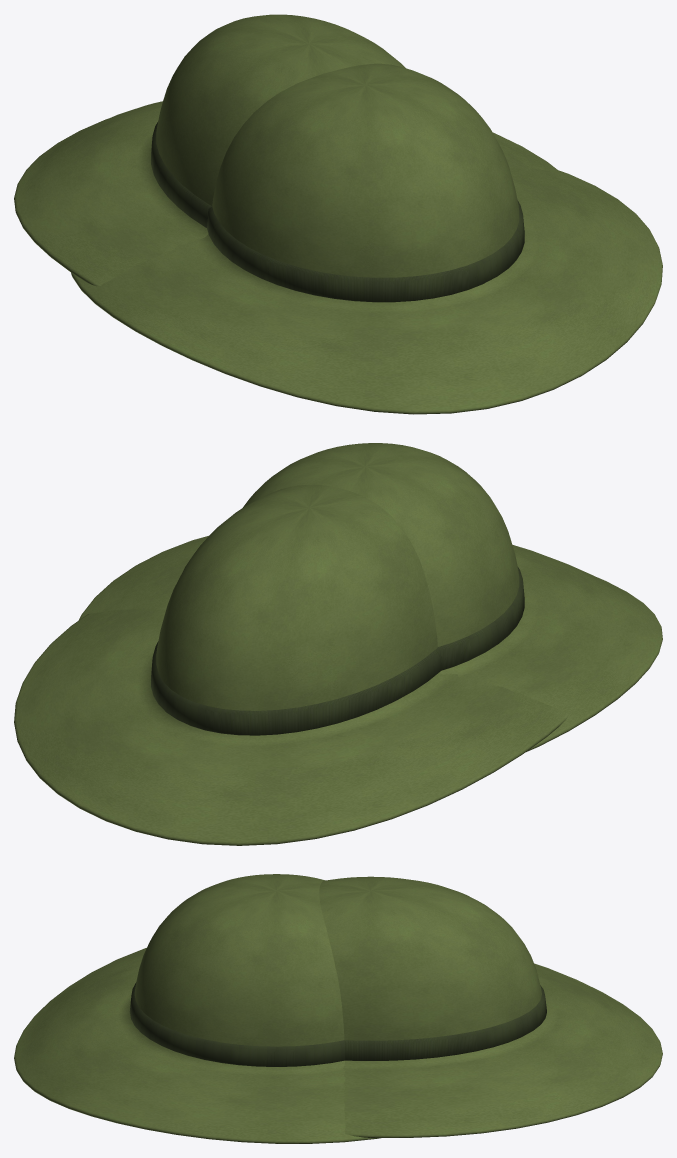
The model's file is prop-hat.glb.
3 renders of one model, top to bottom at view 1: azimuth 30°, elevation 25°; view 2: azimuth 150°, elevation 25°; view 3: azimuth 270°, elevation 25°, orthographic. The views are drawn at different scales.
Visible parts, largest first — view 1: hat-explorer-m, hat-explorer-f; view 2: hat-explorer-f, hat-explorer-m; view 3: hat-explorer-m, hat-explorer-f.
Boxes of the visible parts, x1=… form: hat-explorer-m: x1=71, y1=63, x2=662, y2=414; hat-explorer-f: x1=14, y1=14, x2=560, y2=286; hat-explorer-f: x1=14, y1=484, x2=568, y2=845; hat-explorer-m: x1=78, y1=443, x2=662, y2=751; hat-explorer-m: x1=14, y1=874, x2=380, y2=1143; hat-explorer-f: x1=319, y1=876, x2=662, y2=1137.
Bounding box in the file's own units: 0.4427 × 0.1699 × 0.5872.
Materials: 2 (2 with a texture image).
